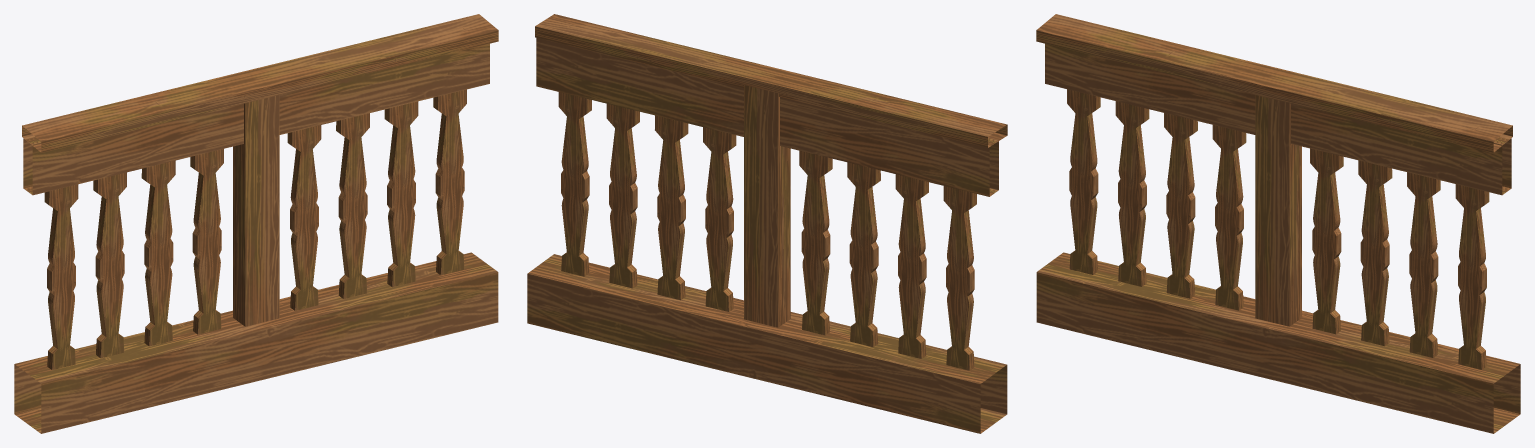
Rendered from Balcony_Simple_Straight.obj.
3 renders of one model, left to right at view 1: azimuth 30°, elevation 25°; view 2: azimuth 150°, elevation 25°; view 3: azimuth 330°, elevation 25°, orthographic.
Parts seen in each view (by area): view 1: Balcony_Simple_Straight; view 2: Balcony_Simple_Straight; view 3: Balcony_Simple_Straight.
Boxes of the visible parts, x1,y1,x2,y2 form: Balcony_Simple_Straight: (14,14,498,433); Balcony_Simple_Straight: (527,14,1007,433); Balcony_Simple_Straight: (1036,14,1520,433).
Size of the model in its own units: 2 by 1.23 by 0.2063.
